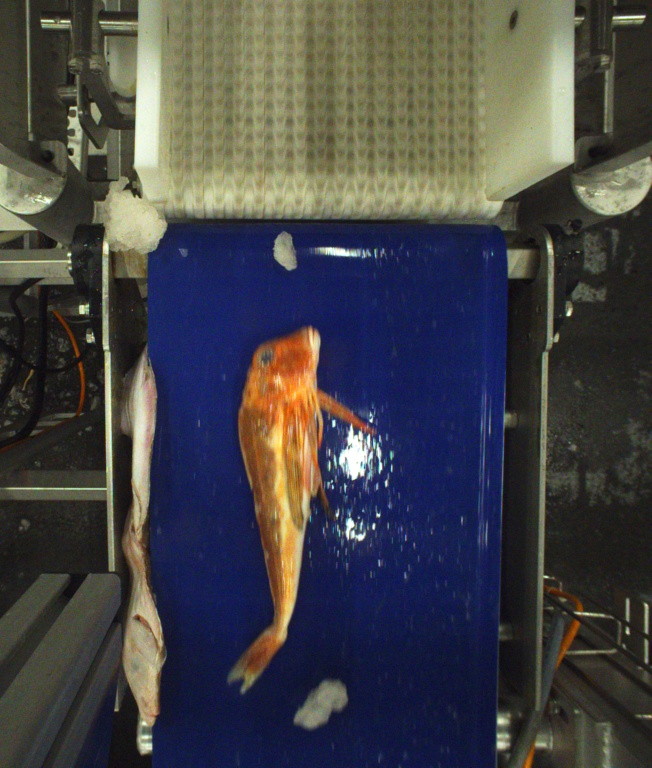GUU: (231, 325, 378, 708)
